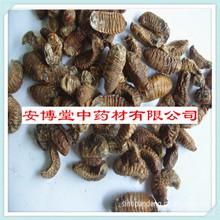grub: (77, 134, 109, 163)
